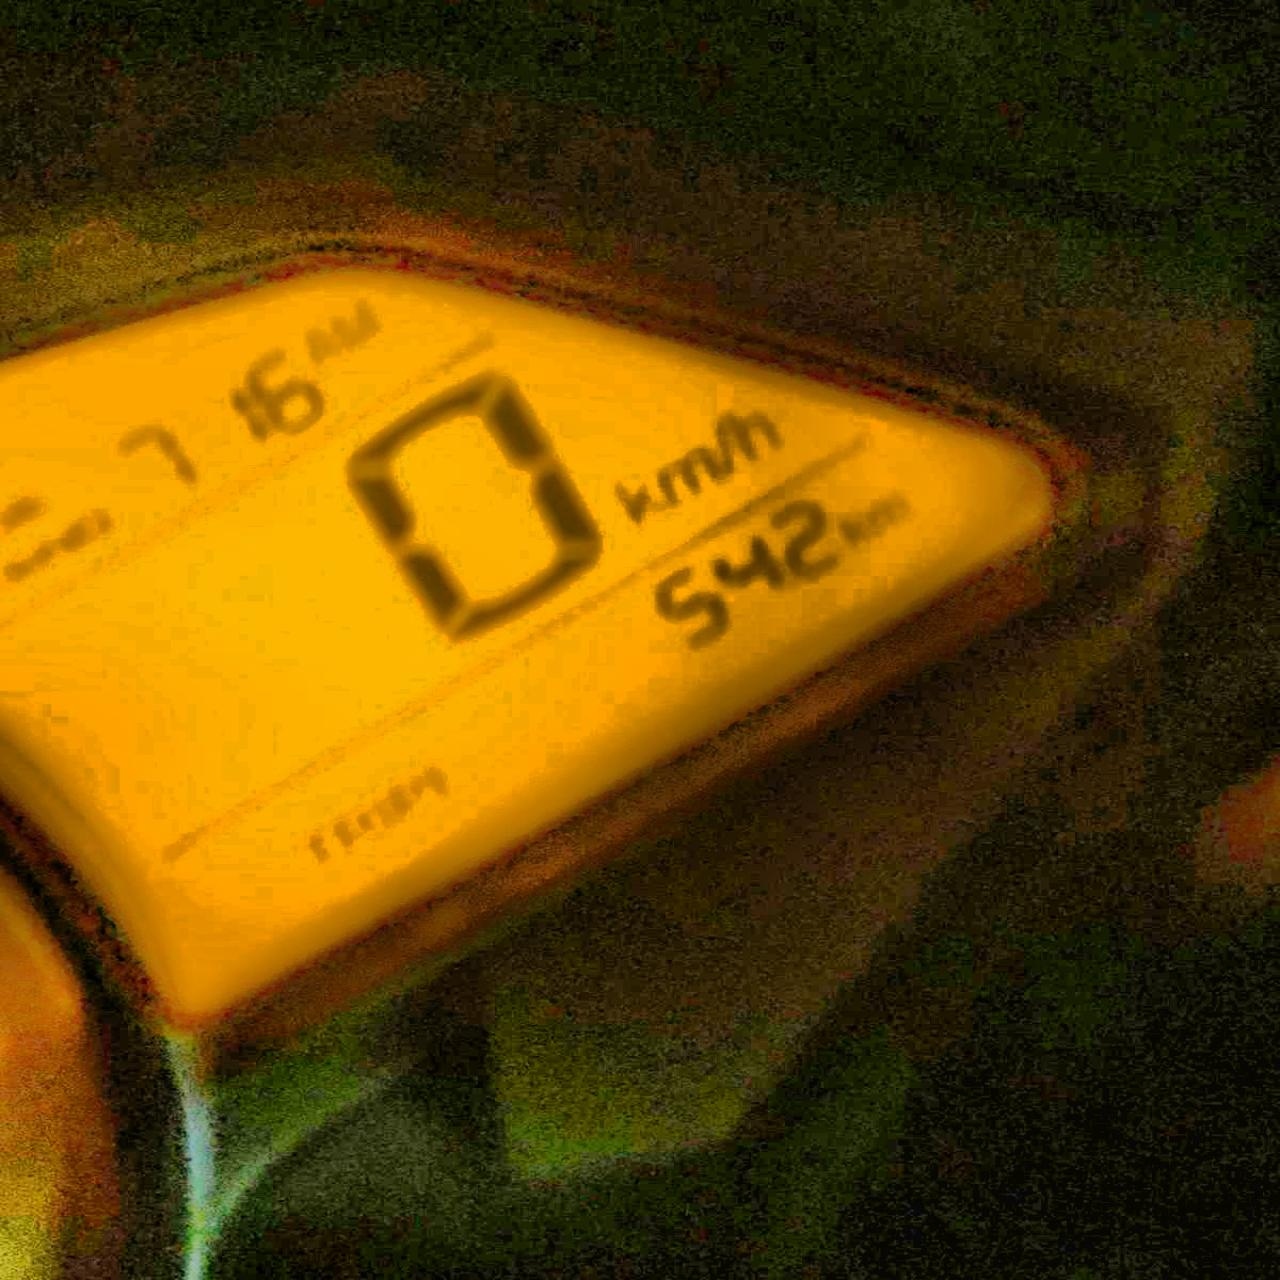0: (342, 392, 597, 635)
1: (215, 393, 274, 454)
2: (767, 504, 837, 584)
4: (712, 538, 785, 597)
5: (647, 568, 727, 652)
6: (246, 349, 333, 430)
7: (101, 417, 206, 490)
X: (729, 407, 791, 464), (661, 451, 716, 502), (614, 475, 665, 527), (329, 302, 386, 347), (291, 826, 338, 879), (306, 332, 353, 372)
odometer: (6, 254, 1084, 1015)
